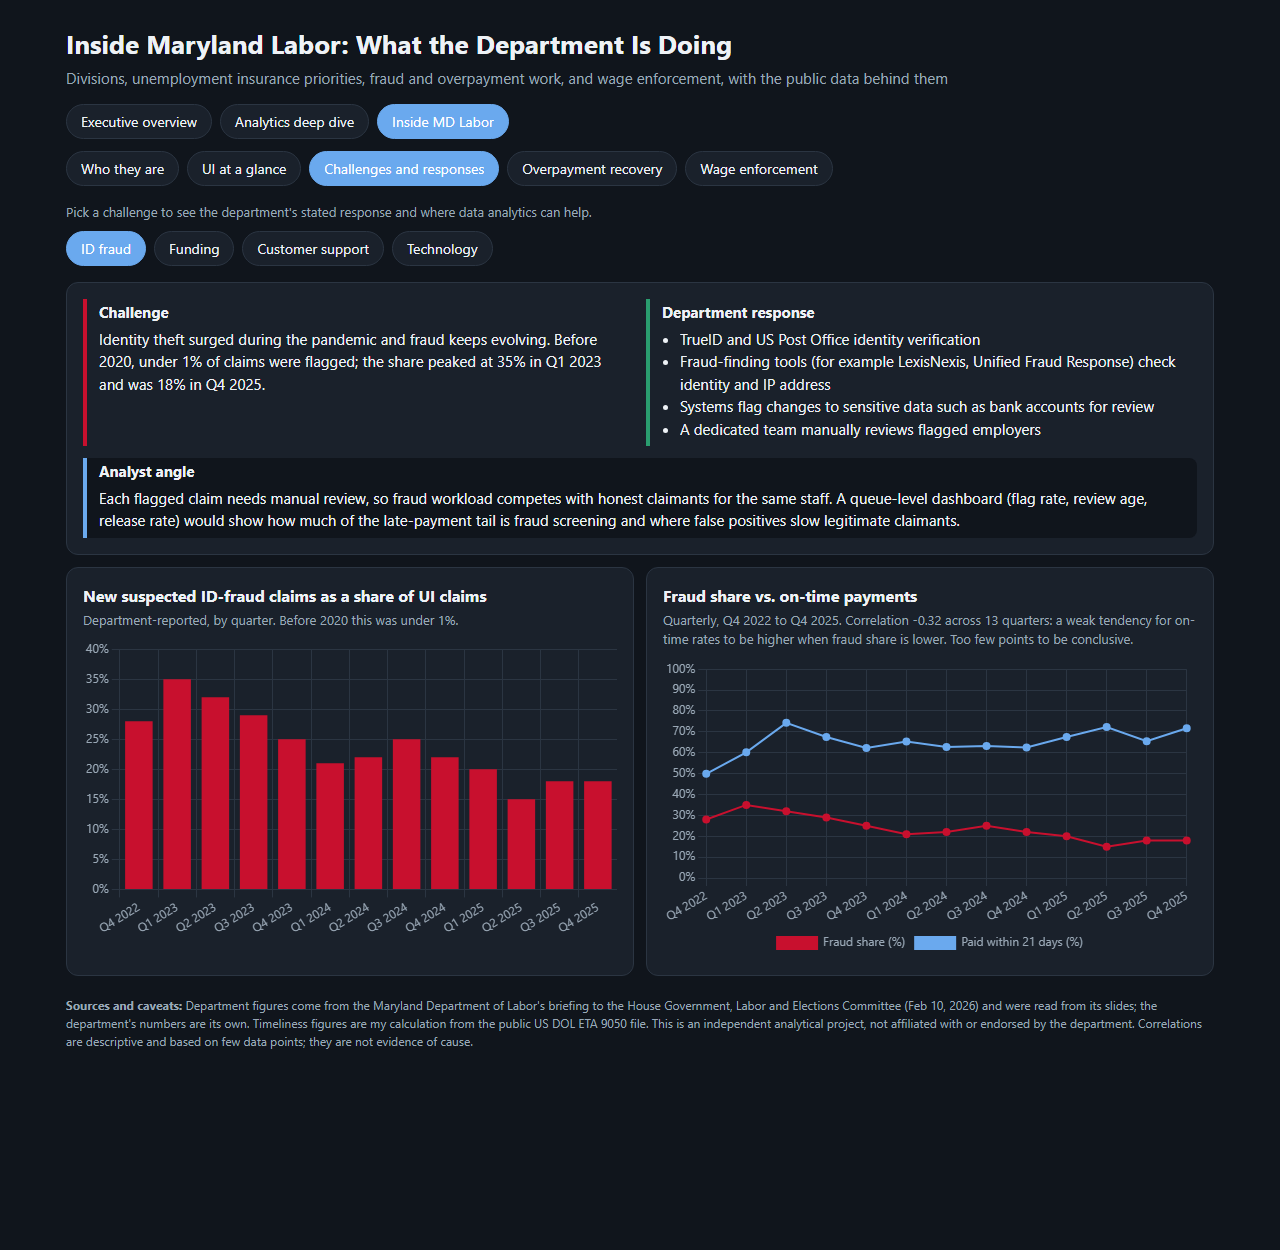

The dashboard page shown, as its layout file describes it:
{"tool":"powerbi","page":{"name":"Inside MD Labor","canvas":[1280,720],"ordinal":2},"visuals":[{"type":"lineChart","title":"On-time rate by year: Maryland vs US","fields":{"Category":["AnnualTimeliness.y"],"Y":["AnnualTimeliness.Maryland Annual %","AnnualTimeliness.US Annual %"]},"box":[20,20,620,330],"z":0},{"type":"lineChart","title":"Suspected-fraud share vs on-time rate (quarterly)","fields":{"Category":["FraudVsTimeliness.q"],"Y":["FraudVsTimeliness.Fraud Share %","FraudVsTimeliness.Paid Within 21 Days (quarterly)"]},"box":[650,20,610,330],"z":0},{"type":"clusteredColumnChart","title":"UI claims filed per quarter (department-reported)","fields":{"Category":["DeptClaims.quarter"],"Y":["DeptClaims.Claims Filed"]},"box":[20,365,620,340],"z":0},{"type":"clusteredColumnChart","title":"Wages recovered for workers (department-reported)","fields":{"Category":["WagesRecovered.fiscal_year"],"Y":["WagesRecovered.Wages Recovered"]},"box":[650,365,610,340],"z":0}]}

Visuals, with their boxes on the page's 1280x720 design canvas (x1, y1, x2, y2). These are canvas units, not pixel positions in the 1280x1250 screenshot, which may show the page scaled, cropped or inside an application window:
"On-time rate by year: Maryland vs US" lineChart: (left=20, top=20, right=640, bottom=350)
"Suspected-fraud share vs on-time rate (quarterly)" lineChart: (left=650, top=20, right=1260, bottom=350)
"UI claims filed per quarter (department-reported)" clusteredColumnChart: (left=20, top=365, right=640, bottom=705)
"Wages recovered for workers (department-reported)" clusteredColumnChart: (left=650, top=365, right=1260, bottom=705)
